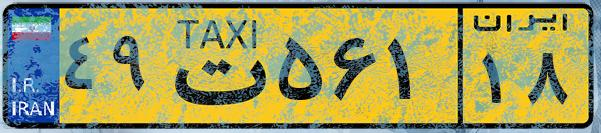1: (385, 28, 445, 110), (475, 38, 525, 113)
4: (57, 26, 110, 100)
5: (270, 28, 330, 110)
6: (330, 28, 385, 110)
8: (525, 38, 570, 115)
9: (110, 28, 158, 98)
ت: (158, 12, 270, 120)
